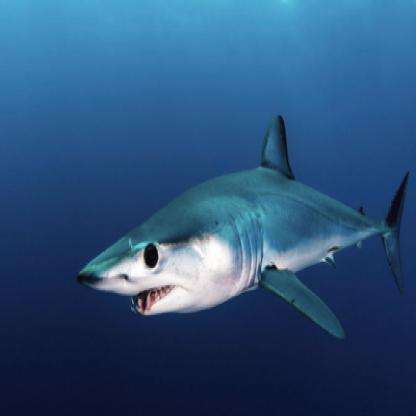Shark -Selachimorpha-: (72, 113, 416, 349)
